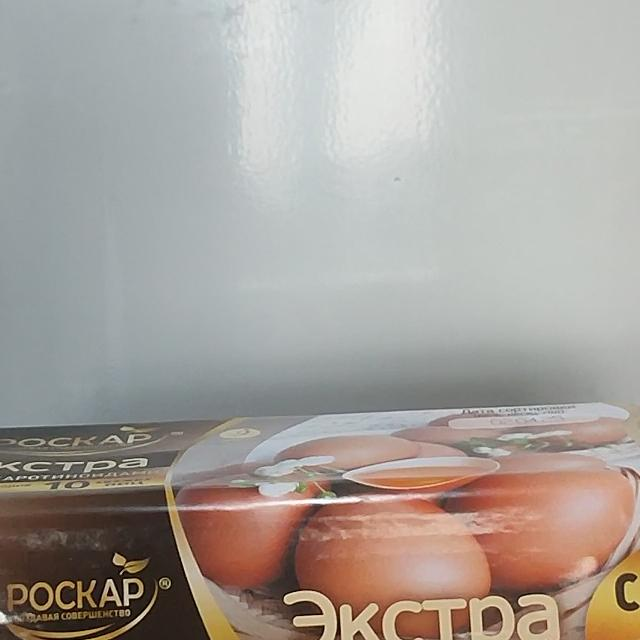egg: (0, 379, 640, 640)
